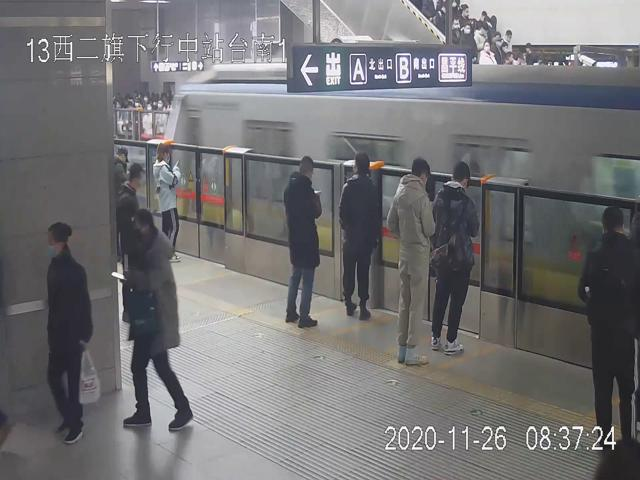person: (122, 207, 192, 432), (578, 205, 640, 440), (44, 221, 94, 443), (429, 160, 476, 354), (387, 157, 429, 366), (283, 155, 322, 328), (339, 152, 379, 319), (153, 140, 181, 264)
